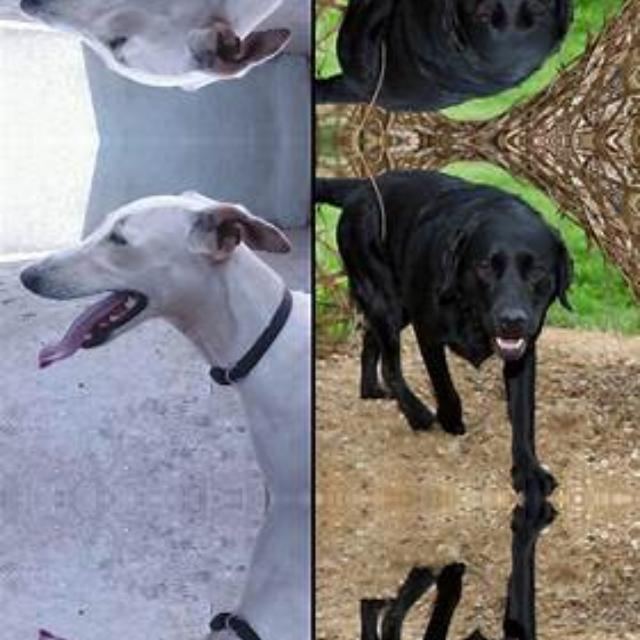dog: (326, 156, 594, 464), (13, 178, 309, 456), (326, 0, 594, 124), (13, 0, 309, 101), (13, 542, 309, 640), (326, 534, 594, 640)
